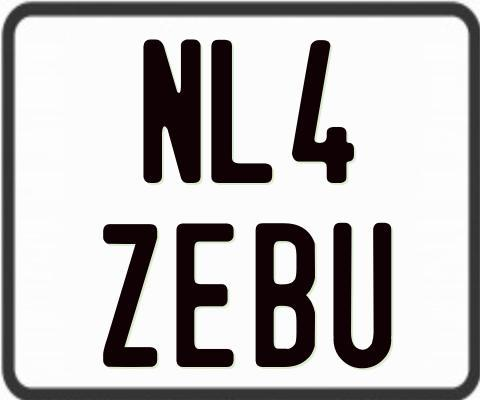4: (291, 37, 354, 183)
B: (255, 221, 317, 366)
E: (175, 222, 237, 370)
L: (209, 39, 274, 187)
N: (142, 37, 200, 182)
U: (333, 223, 397, 371)
Z: (100, 222, 157, 368)
